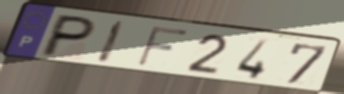2: (187, 32, 232, 75)
4: (233, 37, 272, 82)
7: (285, 42, 331, 85)
F: (134, 24, 192, 69)
I: (94, 18, 128, 66)
P: (36, 13, 100, 59)
